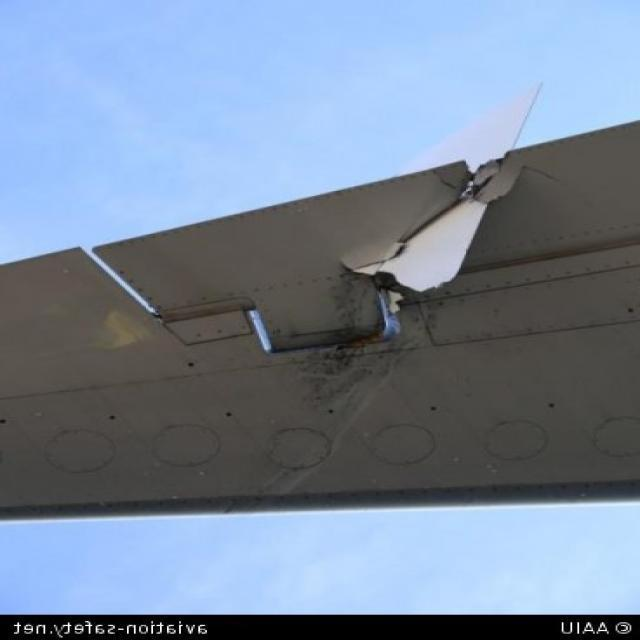crack: (345, 152, 520, 299)
